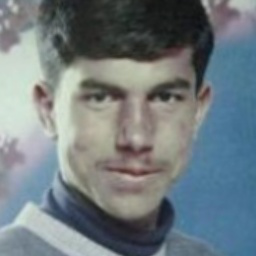Person: (19, 2, 221, 256)
